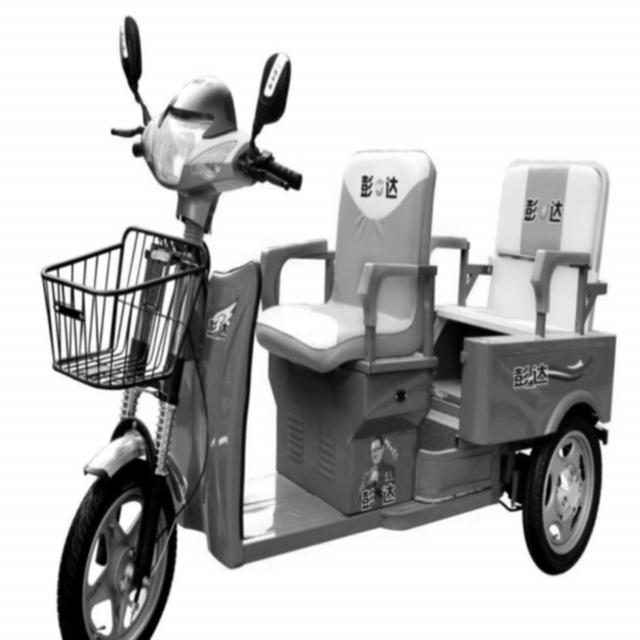tricycle: (39, 15, 616, 639)
